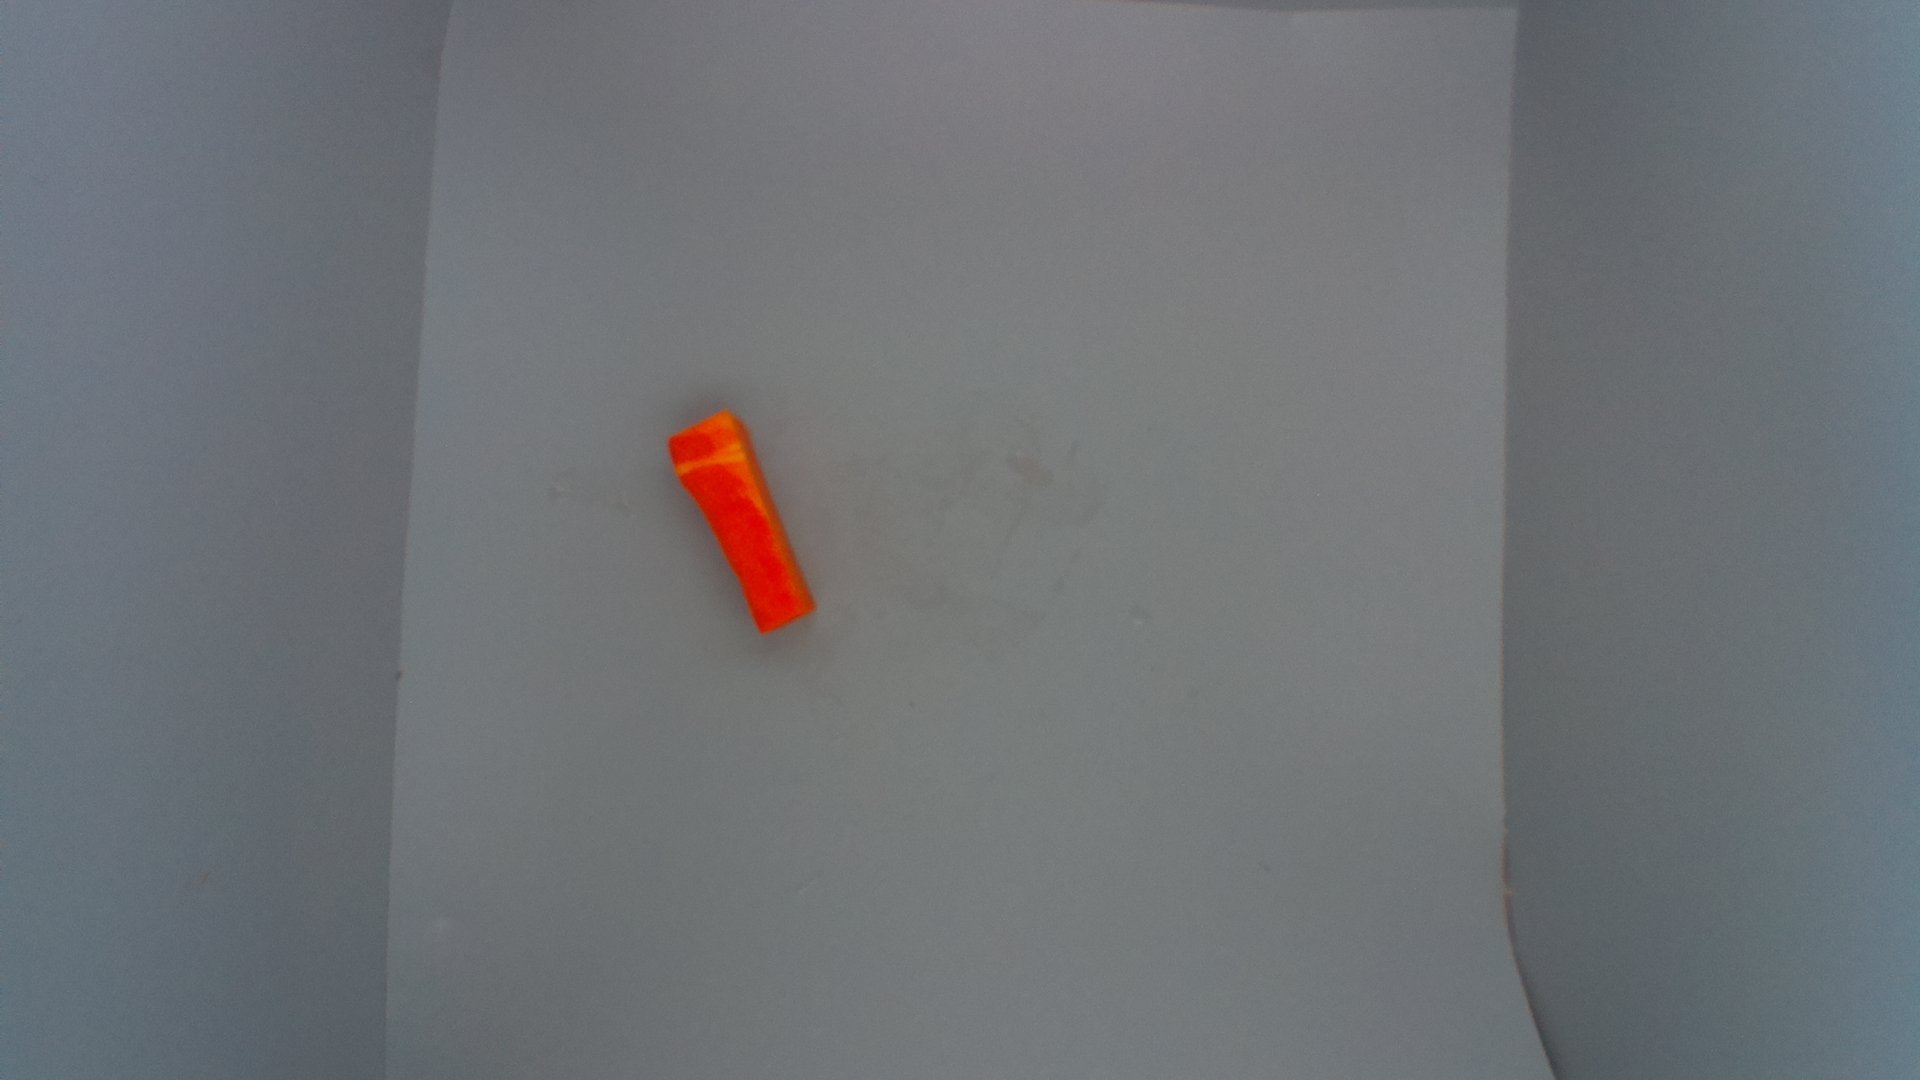carrot: (659, 407, 818, 630)
